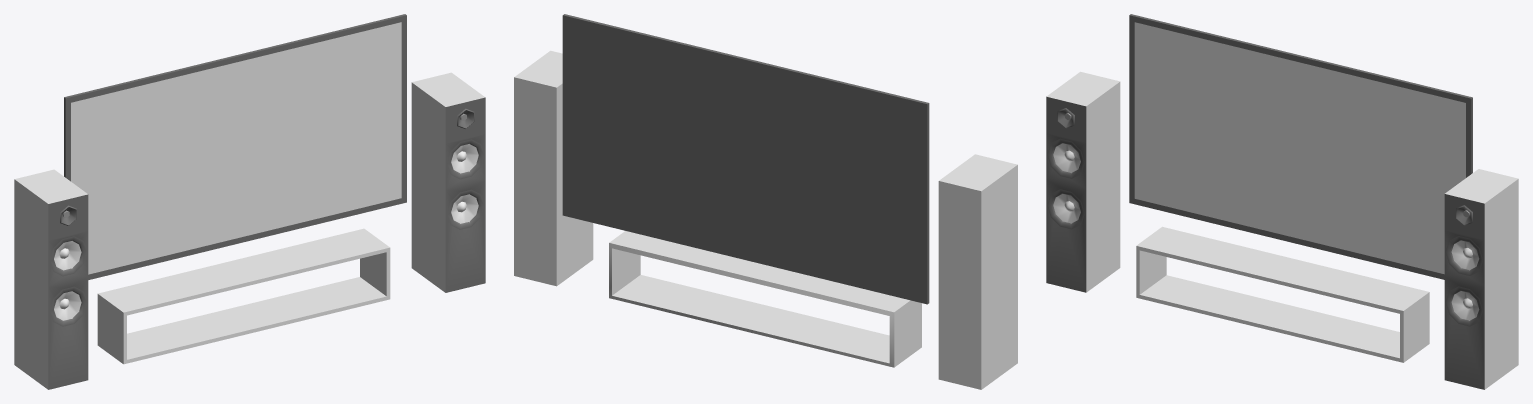
Rendered from Sound System.fbx.
3 views of the same model, side by side, from view 1: azimuth 30°, elevation 25°; view 2: azimuth 150°, elevation 25°; view 3: azimuth 330°, elevation 25° (orthographic). The views are drawn at different scales.
Parts seen in each view (by area): view 1: tv_wall_001; view 2: tv_wall_001; view 3: tv_wall_001.
Boxes of the visible parts, x1,y1,x2,y2 form: tv_wall_001: (14, 14, 485, 389); tv_wall_001: (514, 14, 1017, 389); tv_wall_001: (1046, 14, 1518, 389).
Bounding box in the file's own units: 304 × 169 × 42.04.
1 material, 1 textured.
